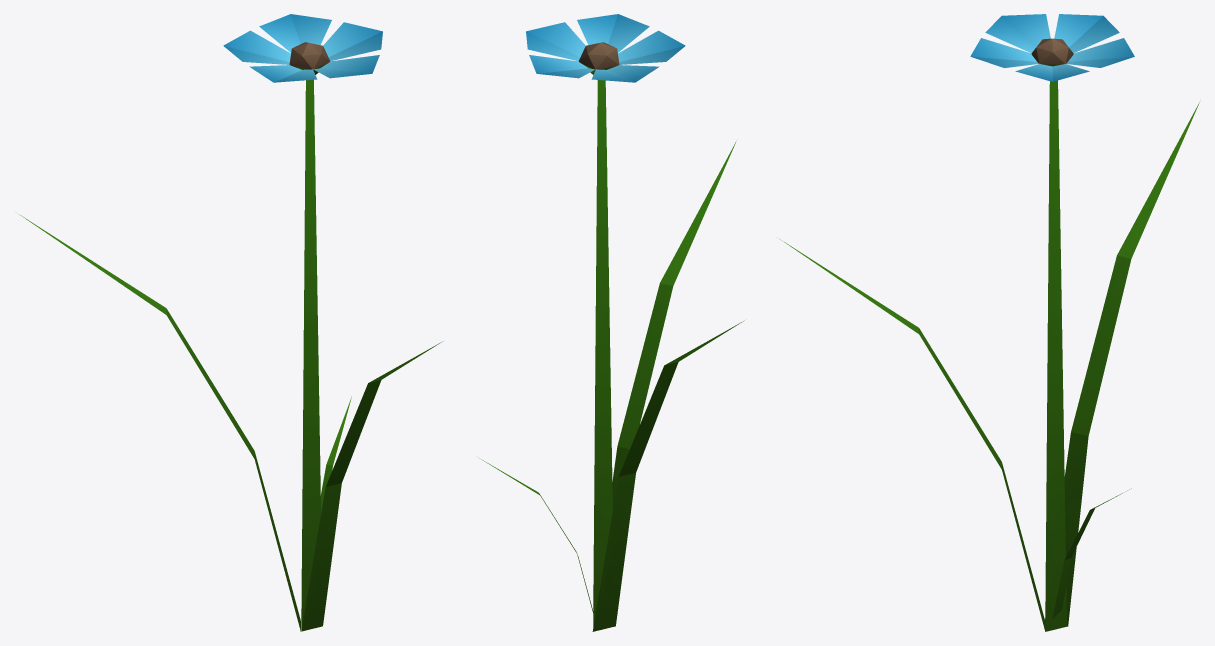
File: flower.glb
3 views of the same model, side by side, from view 1: azimuth 30°, elevation 25°; view 2: azimuth 150°, elevation 25°; view 3: azimuth 270°, elevation 25° (orthographic).
Parts seen in each view (by area): view 1: stalk, petals, leafmed, leaflarge, bud; view 2: stalk, petals, leaflarge, leafmed, bud; view 3: stalk, leaflarge, petals, leafmed, bud, leafsmall.
Boxes of the visible parts, <box> form: stalk: <box>301,79,320,630</box>; petals: <box>223,14,382,82</box>; leafmed: <box>301,341,442,631</box>; leaflarge: <box>19,214,300,631</box>; bud: <box>289,42,330,74</box>; stalk: <box>593,80,612,626</box>; petals: <box>526,14,685,82</box>; leaflarge: <box>592,320,744,631</box>; leafmed: <box>612,141,736,509</box>; bud: <box>578,42,619,74</box>; stalk: <box>1045,80,1066,631</box>; leaflarge: <box>1045,102,1199,626</box>; petals: <box>970,14,1134,81</box>; leafmed: <box>780,239,1045,630</box>; bud: <box>1031,38,1073,66</box>; leafsmall: <box>1052,488,1131,618</box>.
Bounding box in the file's own units: 0.141 × 0.2573 × 0.1684.
Materials: 1 (1 with a texture image).
